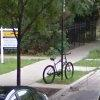Bicycle: (36, 49, 80, 90)
